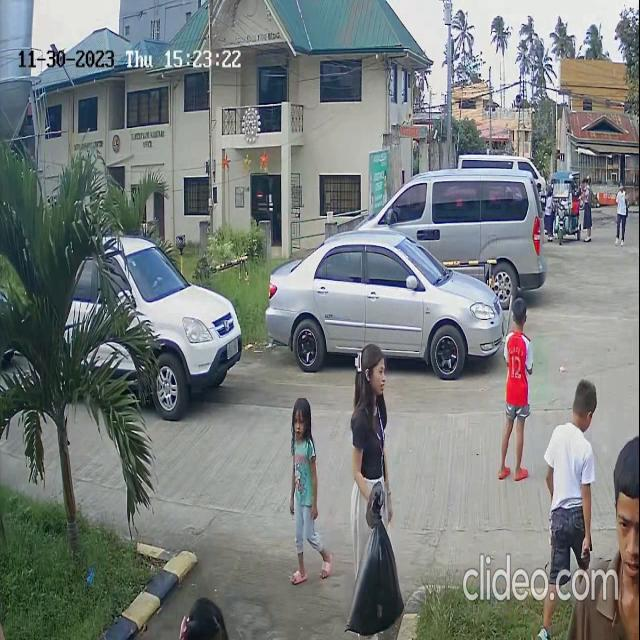garbage: (346, 484, 408, 621)
person: (286, 386, 329, 588), (595, 434, 640, 581), (503, 297, 532, 398), (354, 342, 389, 398)
